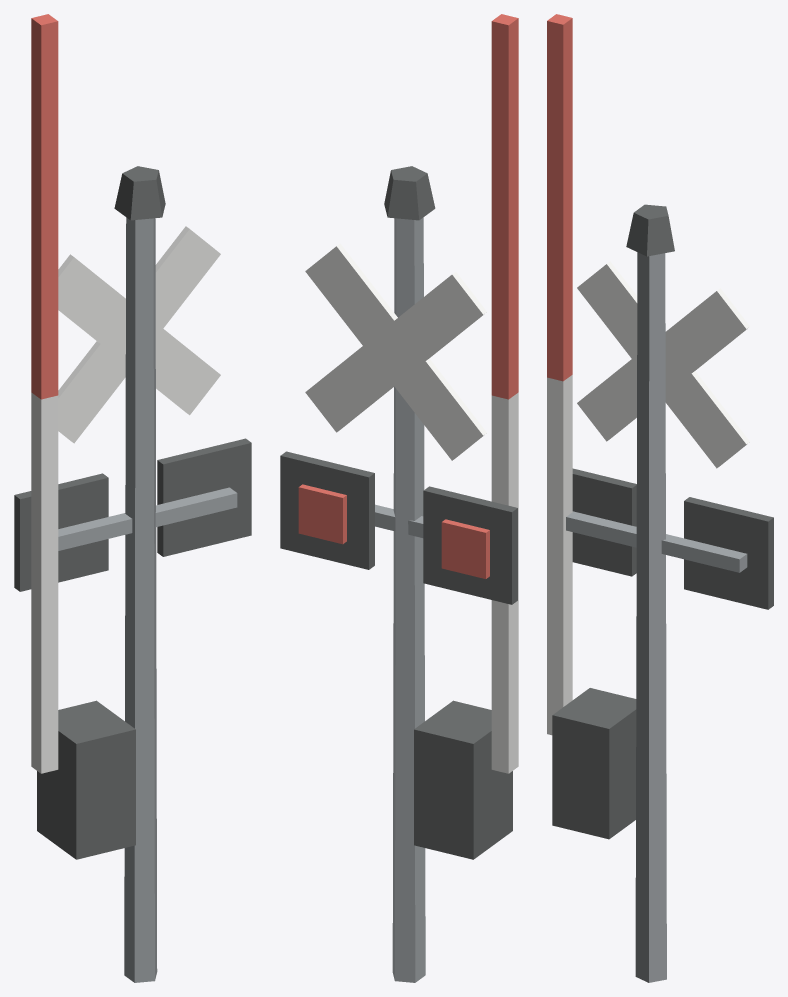
The model's file is crossing-gate-1-far.glb.
3 views of the same model, side by side, from view 1: azimuth 30°, elevation 25°; view 2: azimuth 150°, elevation 25°; view 3: azimuth 330°, elevation 25° (orthographic). The views are drawn at different scales.
Visible parts, largest first — view 1: crossing-gate-1-far; view 2: crossing-gate-1-far; view 3: crossing-gate-1-far.
Part boxes in pixels (left/top/right/bottom): crossing-gate-1-far: left=14, top=14, right=251, bottom=982; crossing-gate-1-far: left=280, top=14, right=518, bottom=982; crossing-gate-1-far: left=547, top=14, right=773, bottom=982.
Size of the model in its own units: 0.2473 by 1 by 0.0727.
